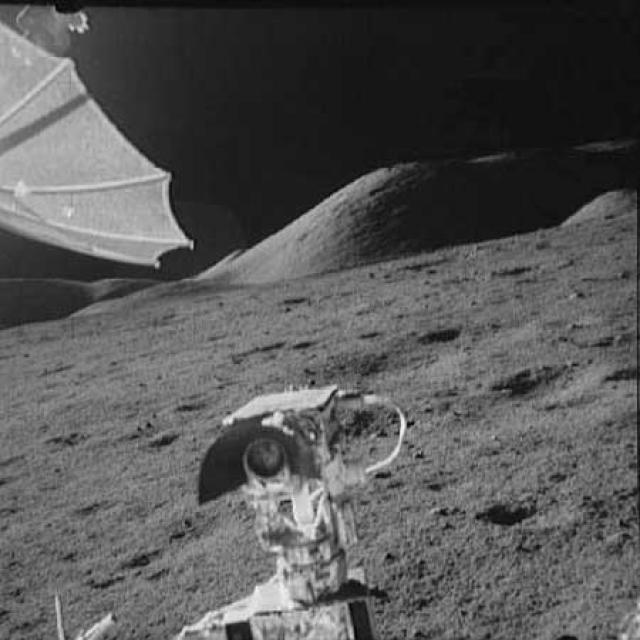artifact: (172, 374, 421, 639), (0, 4, 219, 266)
crater: (304, 351, 422, 384), (497, 357, 588, 398), (238, 339, 307, 359), (413, 322, 470, 346)
